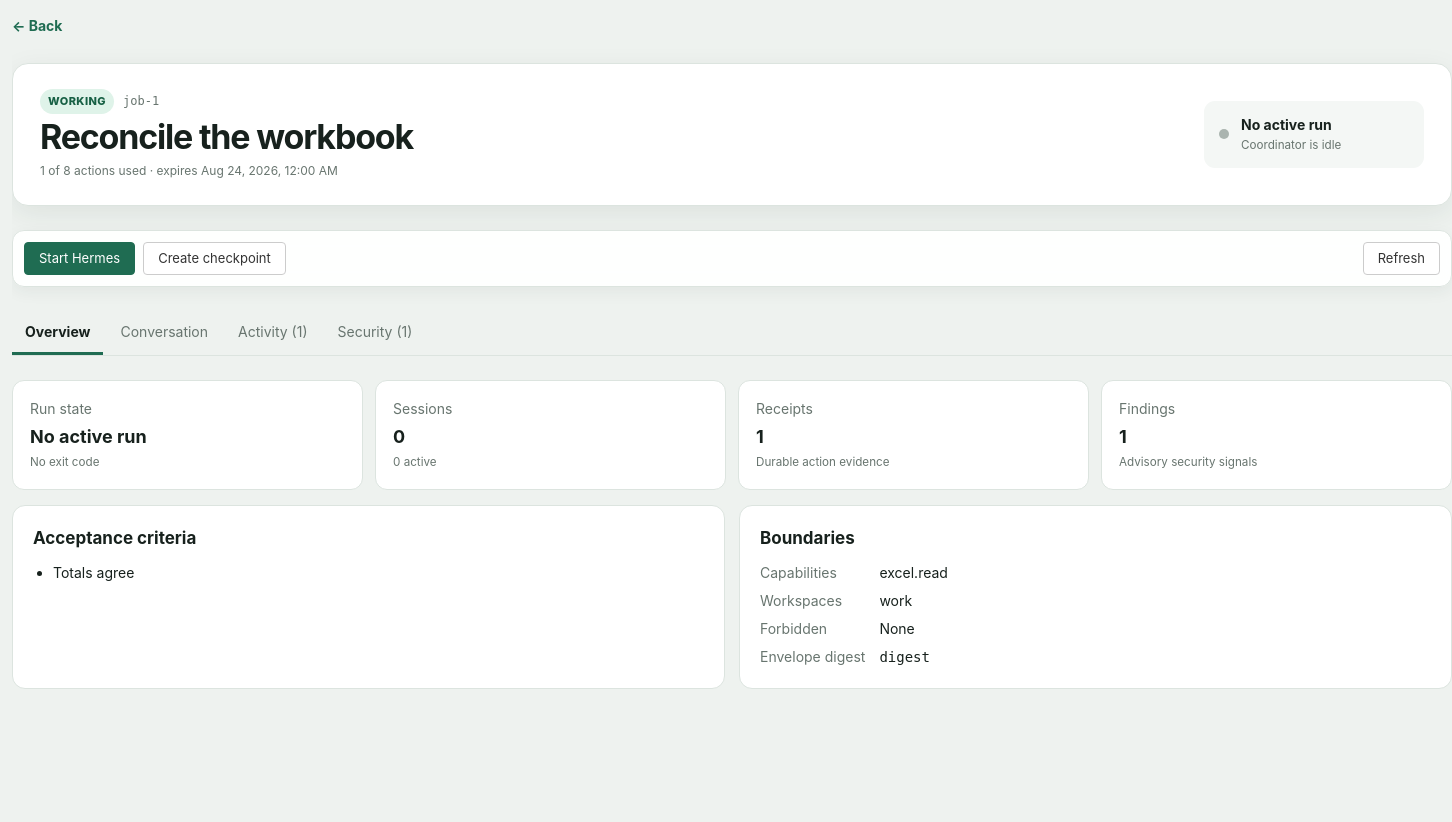
Scenario: job workspace › keeps supervision, receipts, and findings in one contextual surface
The width and height of the screenshot is (1452, 822).
Expected: the heading "Reconcile the workbook" is shown, [40,118,413,156]
Step 1. Click the button "Start Hermes" → (80, 258), box [24,242,135,275]
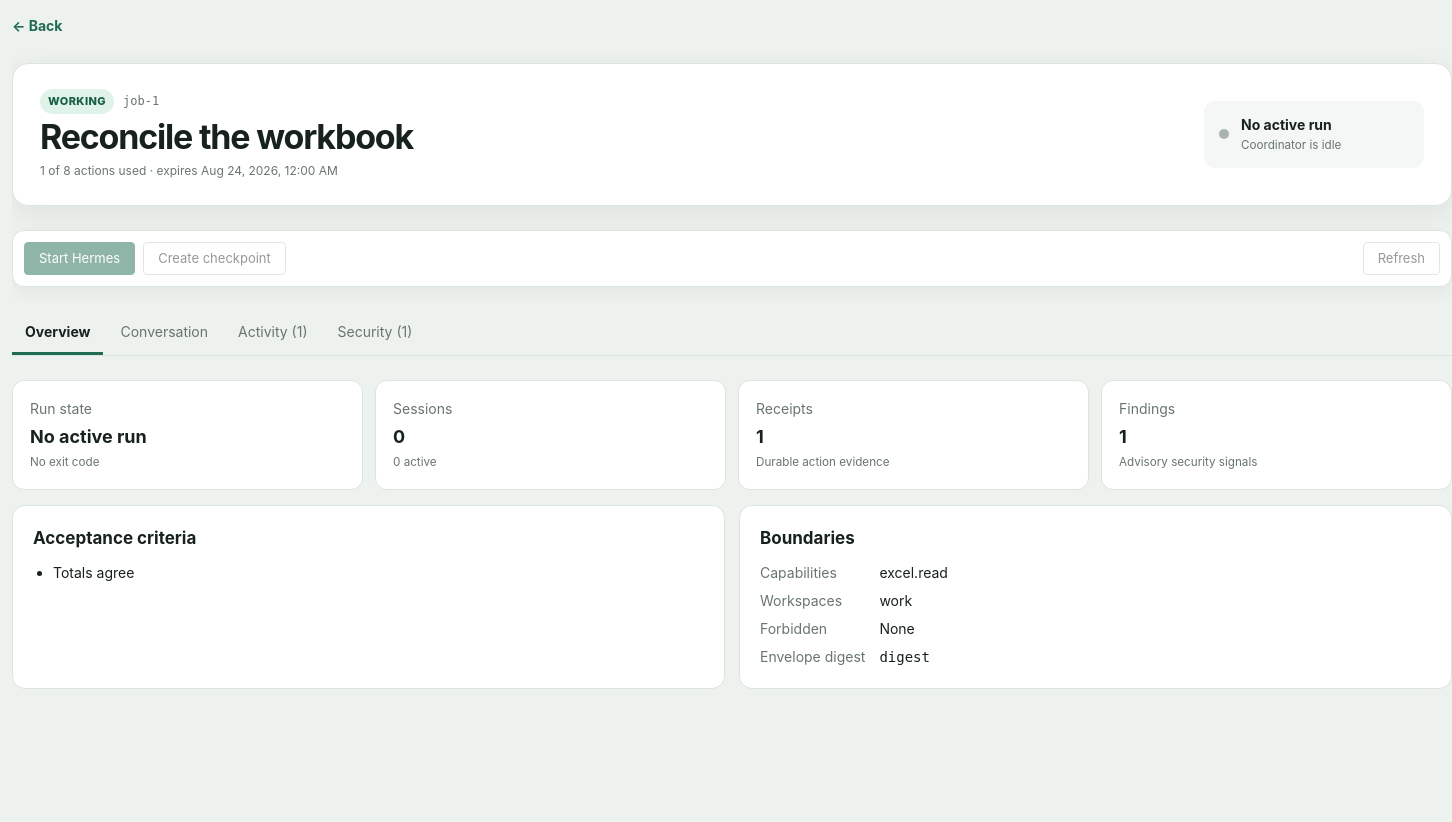
Step 2. Click the tab "Activity (1)" → (273, 333), box [225,311,320,355]
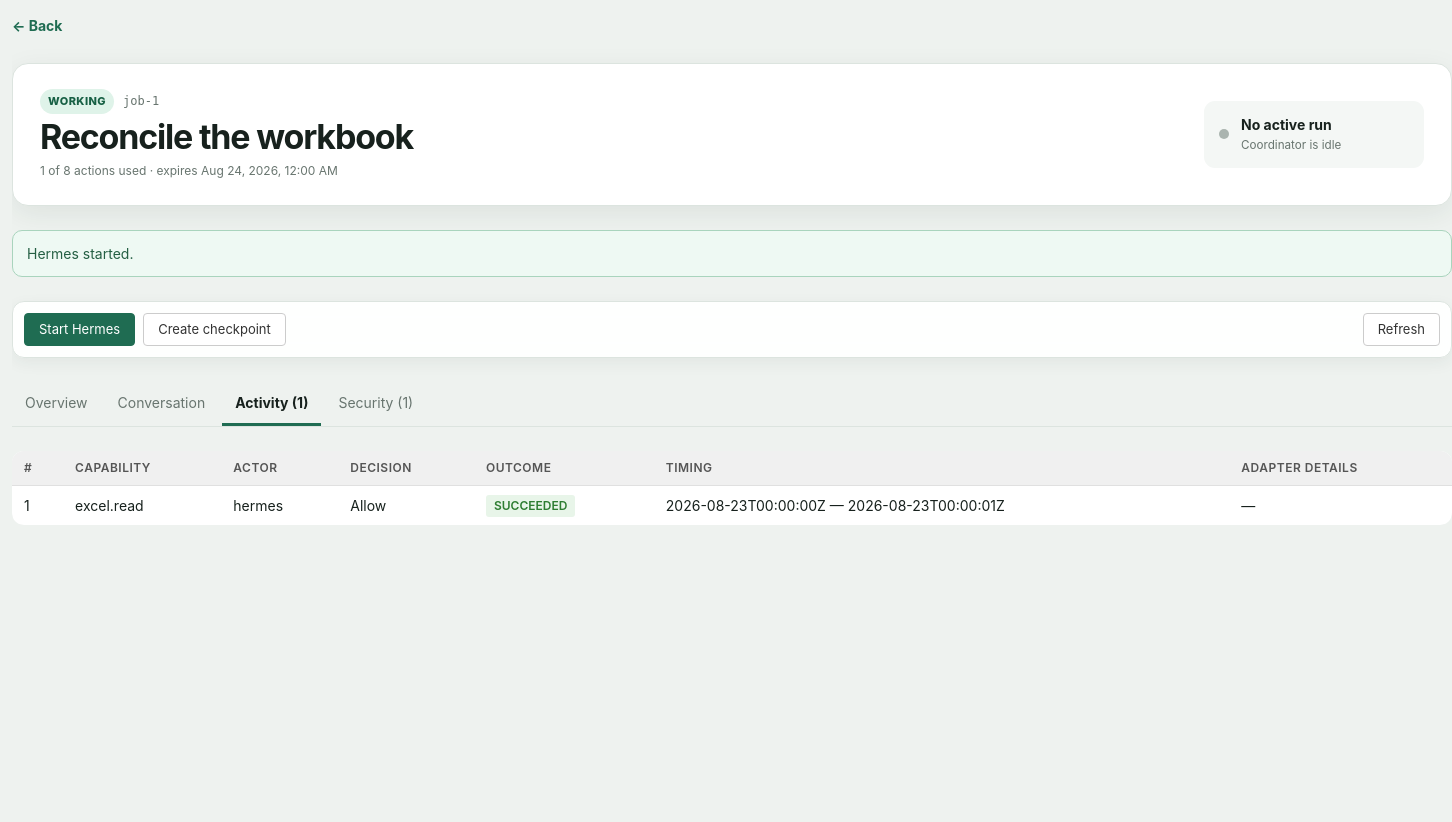
Expected: the text "excel.read" is shown, [63,486,221,525]
Step 3. Click the tab "Security (1)" → (376, 404), box [325,382,426,426]
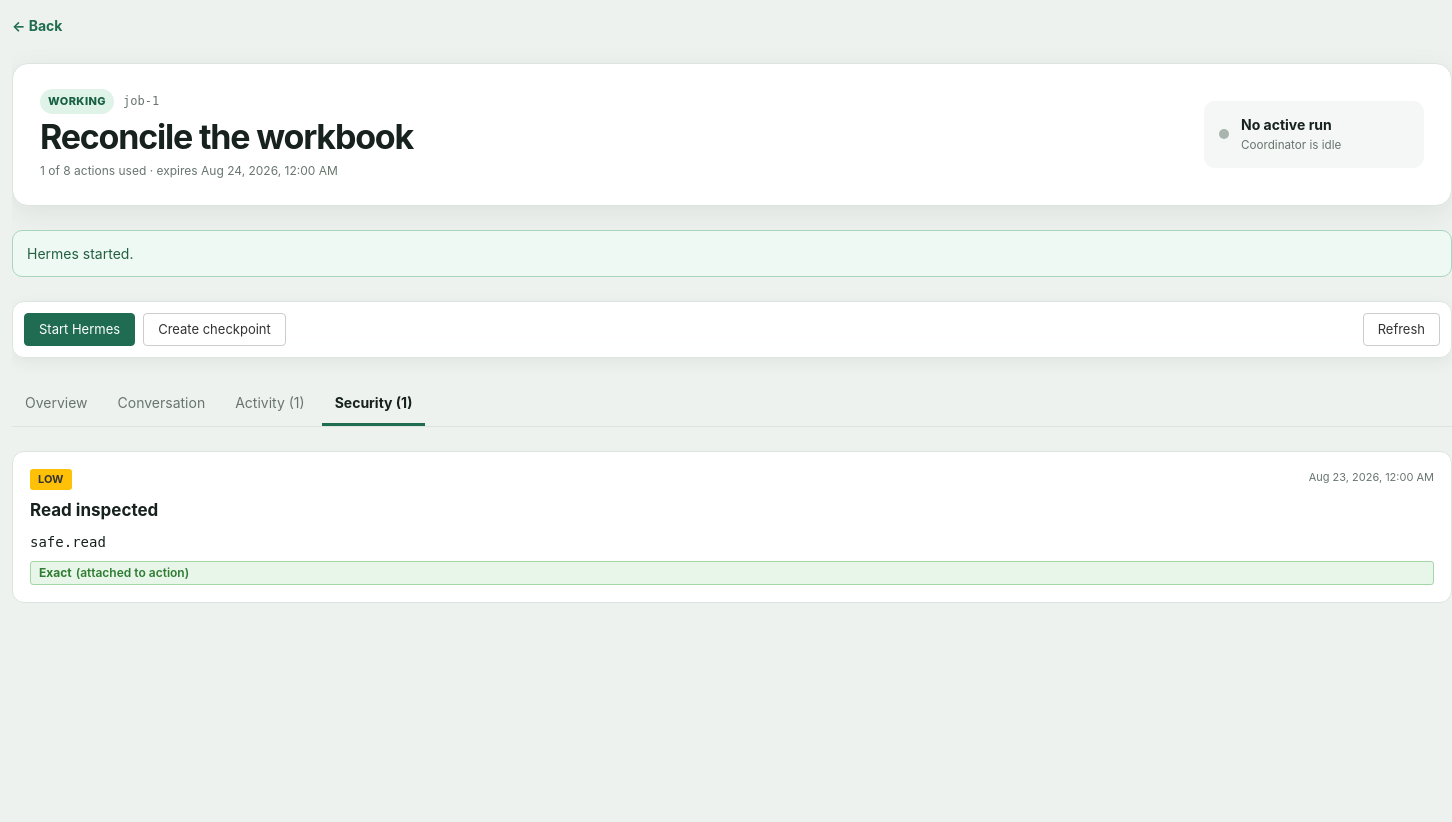
Expected: the heading "Read inspected" is shown, [30,500,158,520]
